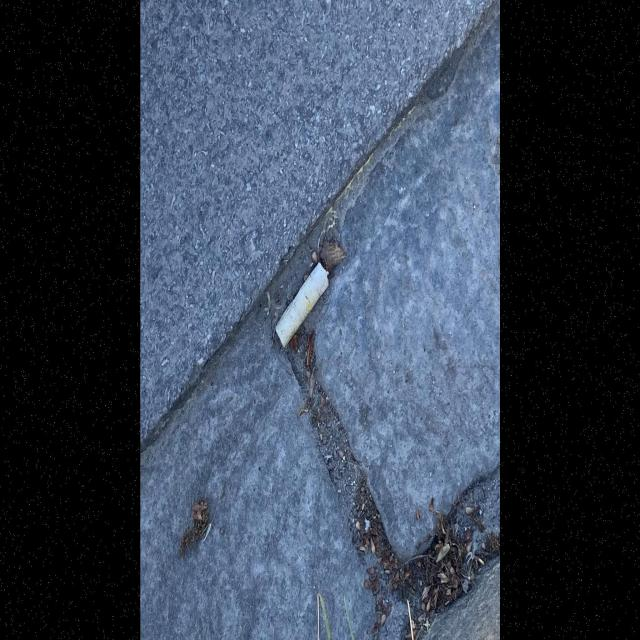other waste: (274, 261, 329, 349)
